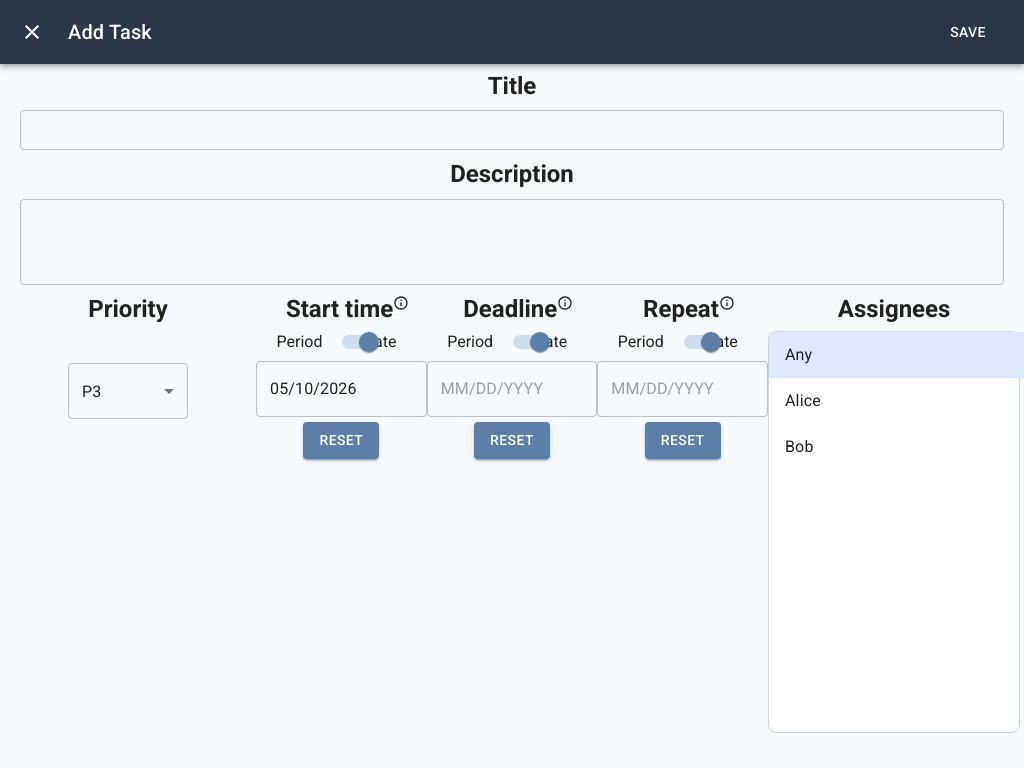
Test: create-task-missing-title
The image size is (1024, 768).
Click the button "save" at (968, 32), box [936,14,1000,50]
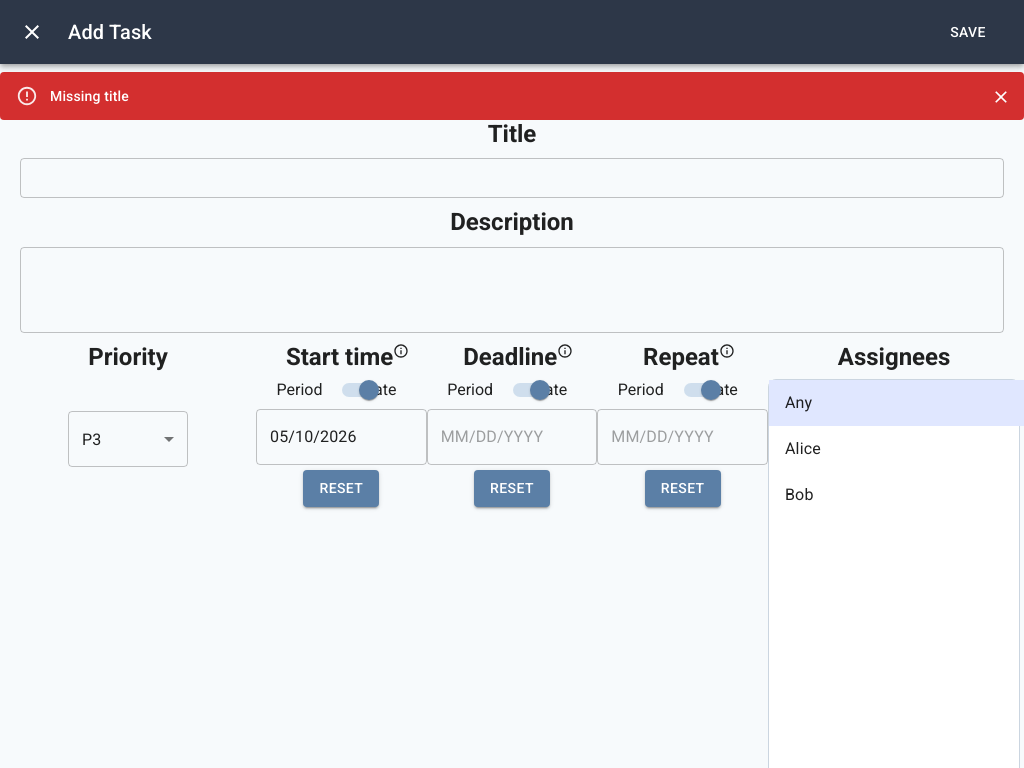
Check: the list item "Missing title" is shown, box [50,86,129,106]
